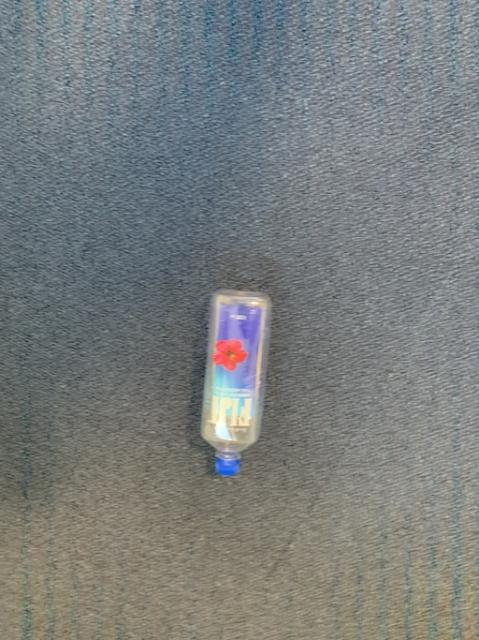plastic: (201, 289, 270, 474)
